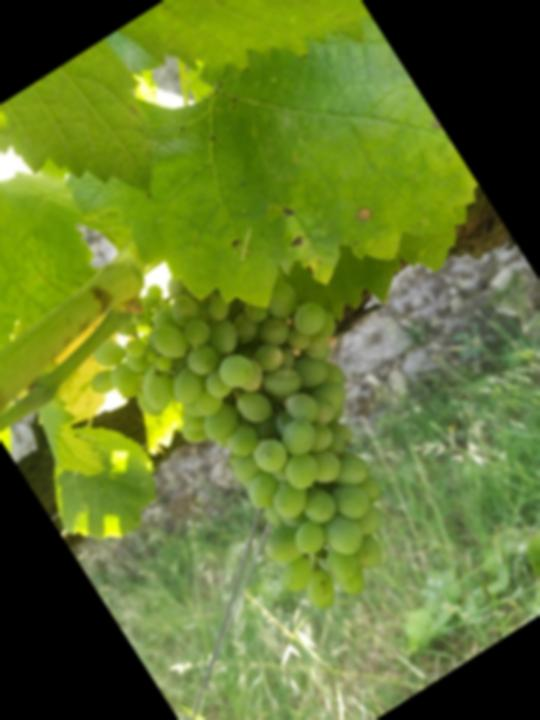grape: (56, 211, 470, 664)
